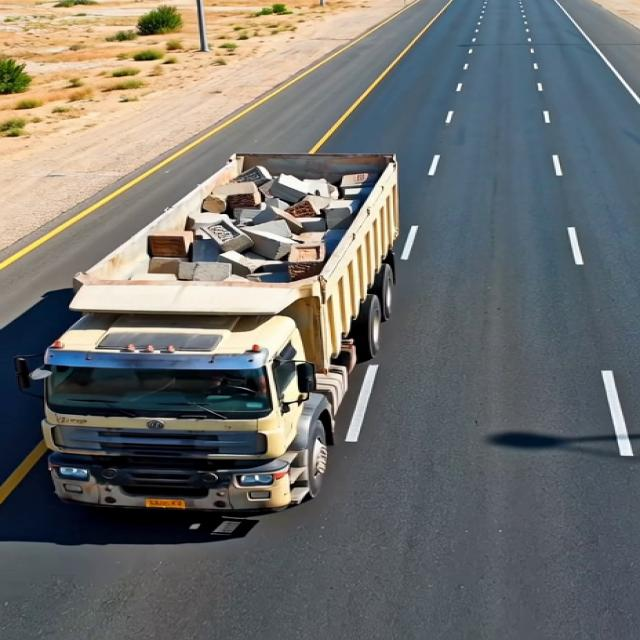Box: (71, 150, 397, 321)
Truck: (36, 132, 408, 531)
